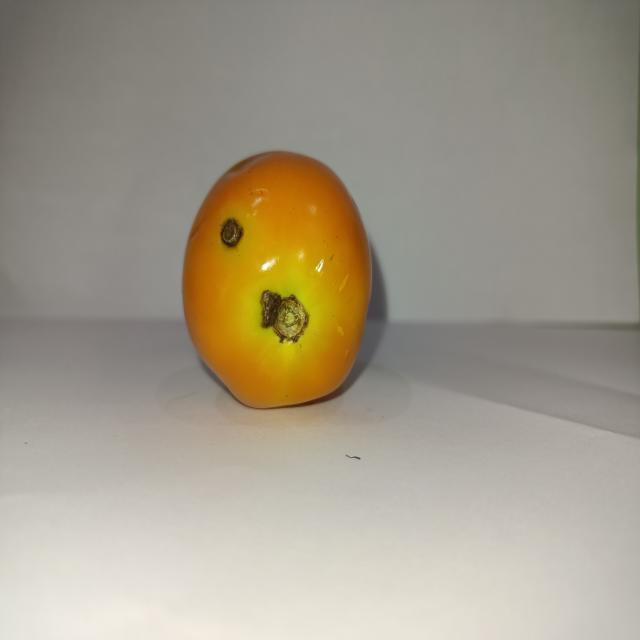Red: (180, 148, 373, 409)
